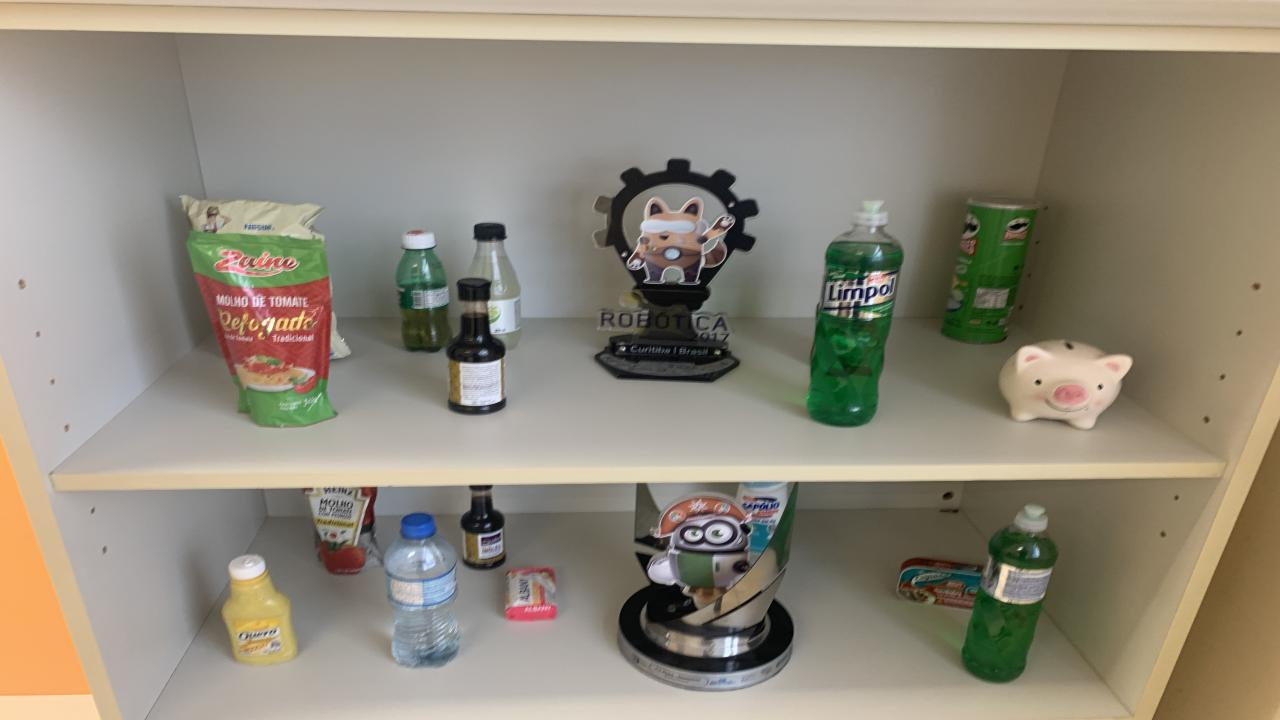Detergent-Cleanup_Items: (808, 201, 902, 426), (962, 504, 1058, 682)
English_Sauce-Pantry_Items: (448, 278, 505, 414), (460, 486, 505, 570)
Flakes-Snacks: (180, 195, 322, 240)
Guarana-Drinks: (395, 231, 452, 352)
Mustard-Pantry_Items: (222, 555, 298, 666)
Pig_Safe-Miscellaneous: (1000, 339, 1132, 429)
Pringles-Snacks: (942, 197, 1040, 343)
Soap-Cleanup_Items: (505, 568, 558, 621)
Soda-Drinks: (470, 223, 520, 349)
Tomato_Sauce-Pantry_Items: (188, 231, 332, 426), (305, 488, 382, 576)
Trophy-Miscellaneous: (618, 482, 798, 690), (595, 159, 758, 382)
Tuna_Can-Pantry_Items: (898, 557, 982, 609)
Water_Bottle-Drinks: (385, 514, 460, 668)
